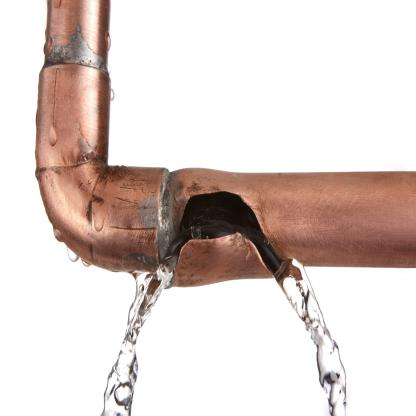burst: (157, 180, 292, 288)
